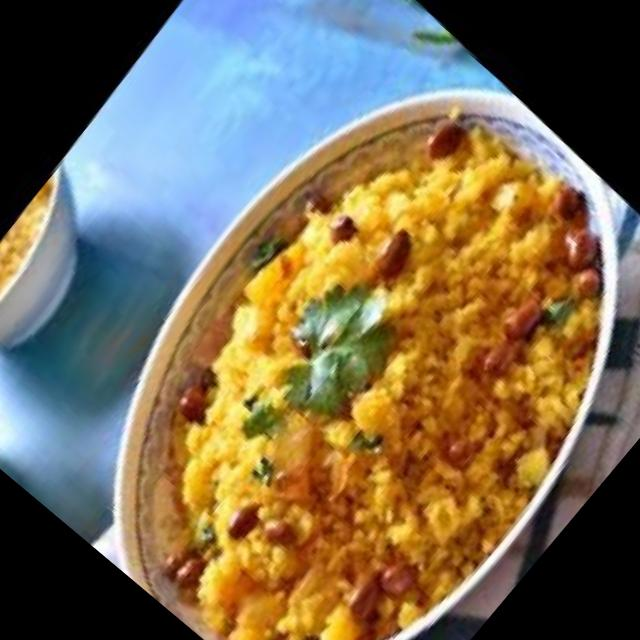poha: (39, 39, 640, 640)
